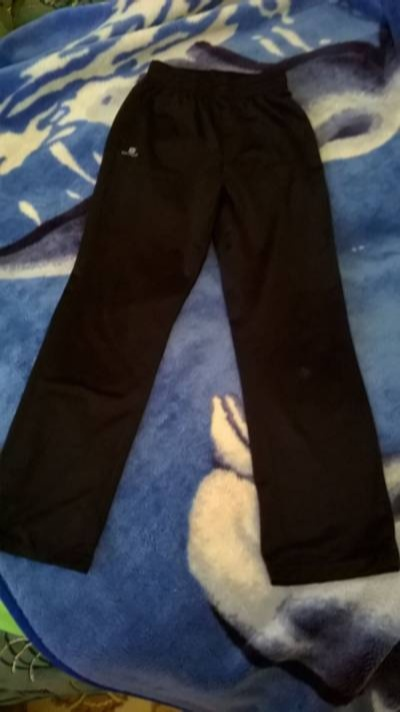Pants: (7, 49, 386, 592)
